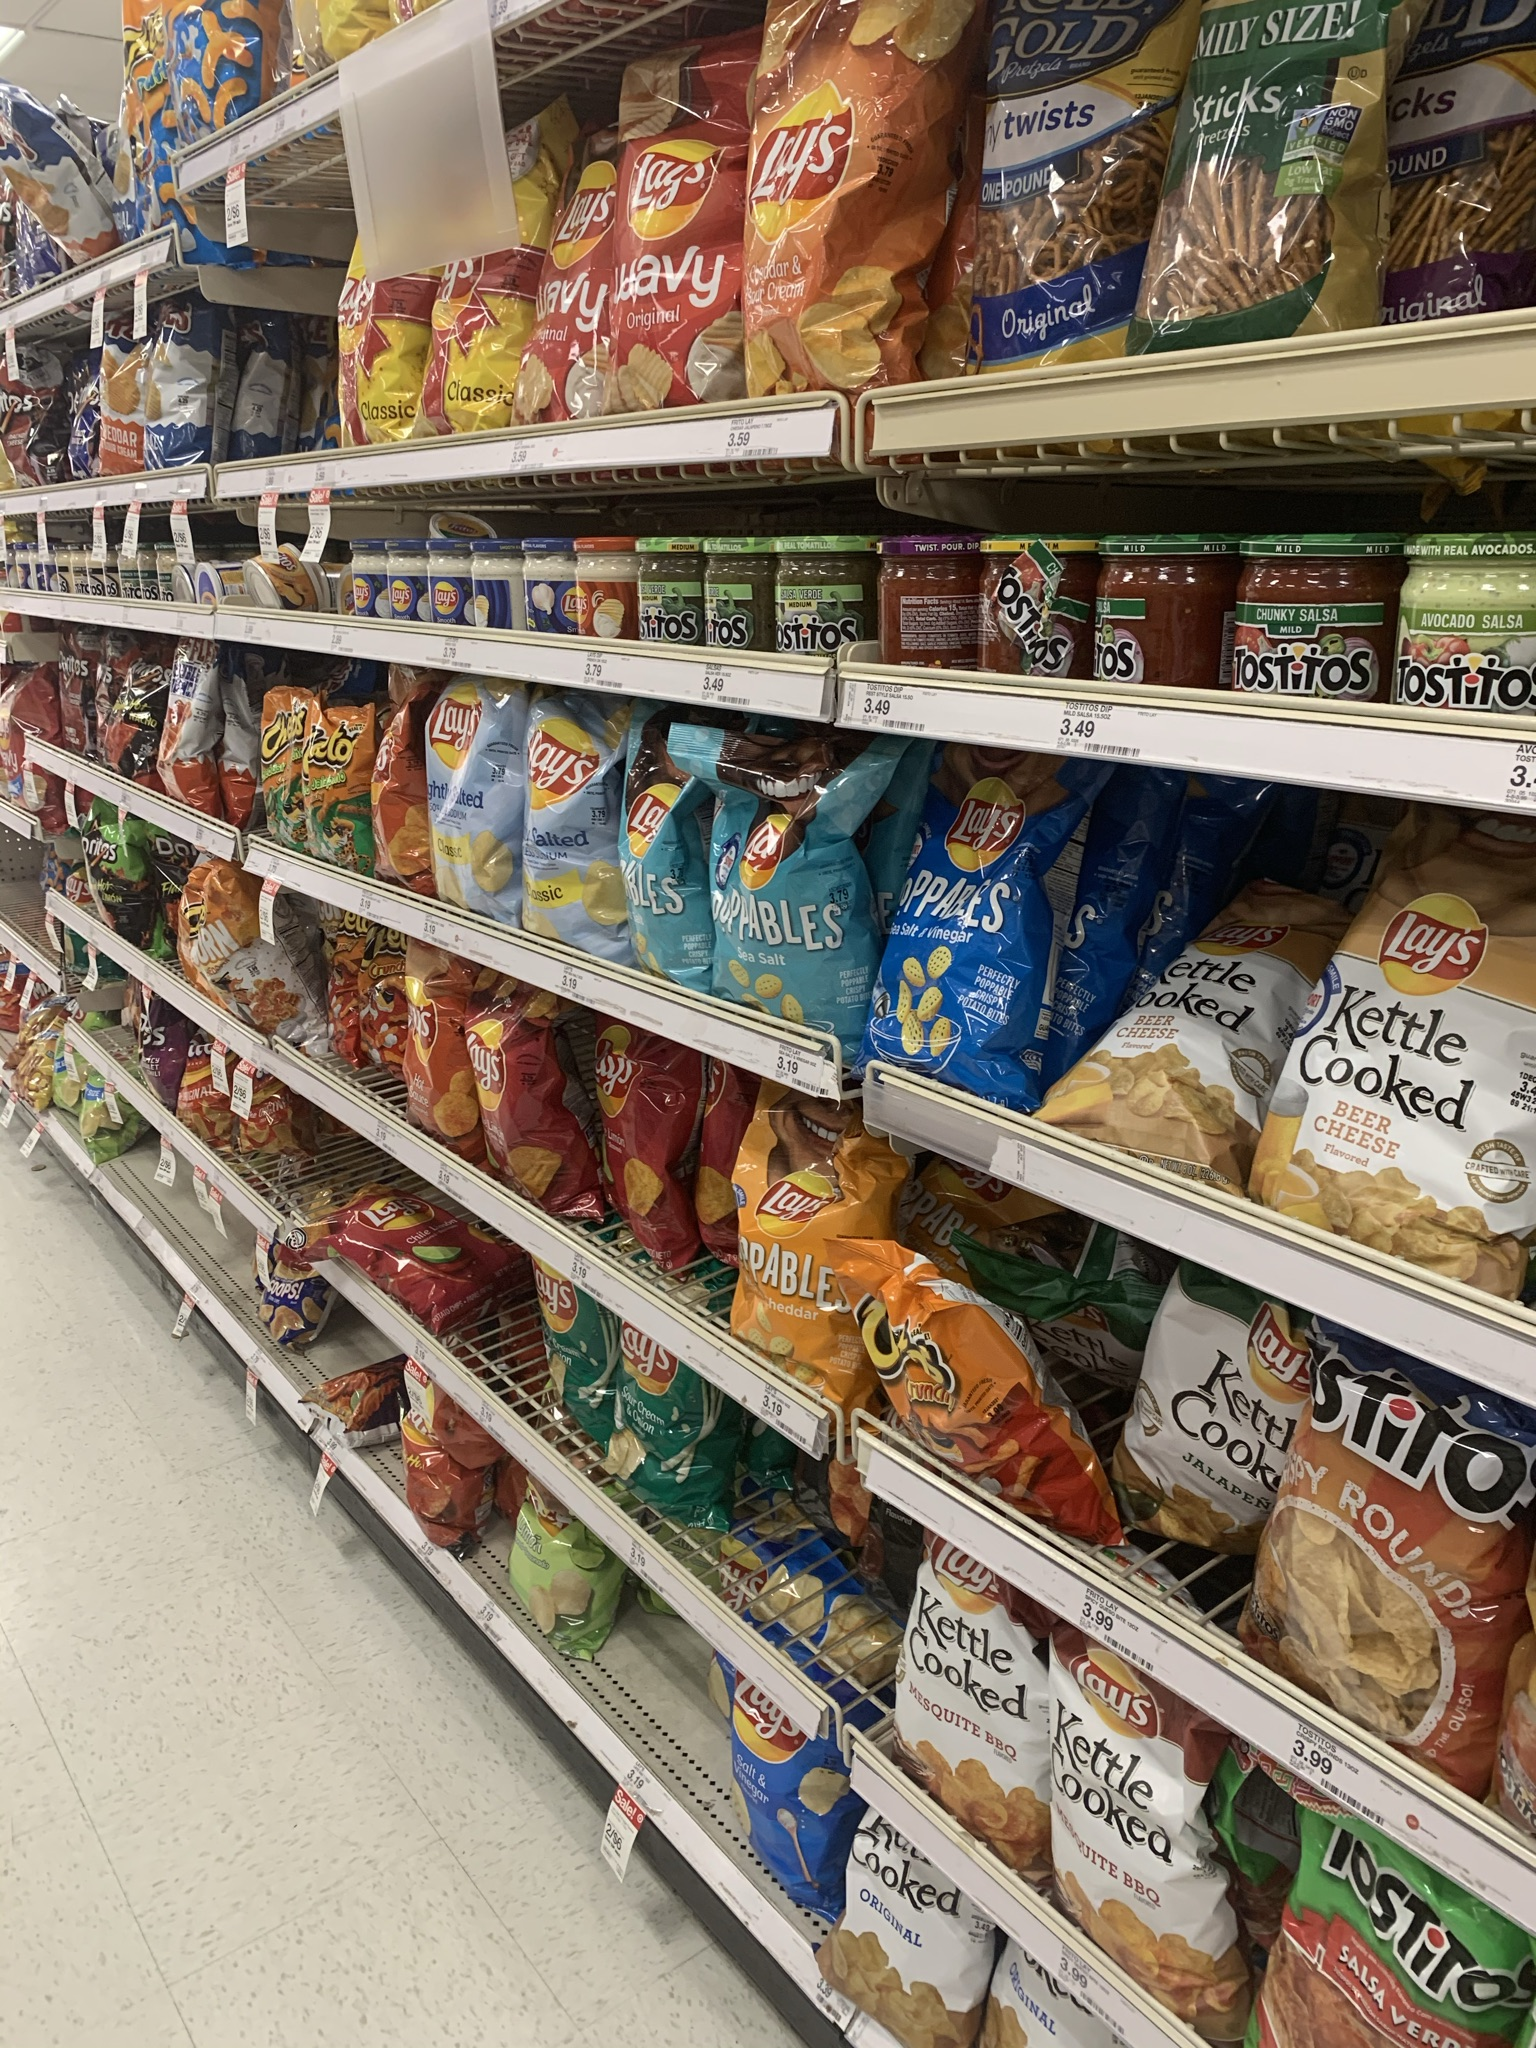chip: (1300, 801, 1536, 1285), (1275, 1321, 1497, 1764), (749, 8, 916, 393), (697, 735, 870, 1050), (721, 1074, 854, 1413), (907, 755, 1028, 1101), (623, 42, 724, 393), (724, 1627, 849, 1909), (337, 144, 436, 443), (582, 1027, 700, 1259), (520, 705, 611, 953), (615, 1317, 724, 1526), (470, 997, 578, 1201), (620, 719, 700, 987), (426, 676, 507, 934), (539, 144, 603, 414), (394, 947, 465, 1150), (539, 1250, 603, 1461), (305, 700, 381, 866), (74, 798, 150, 948), (253, 692, 307, 851)
